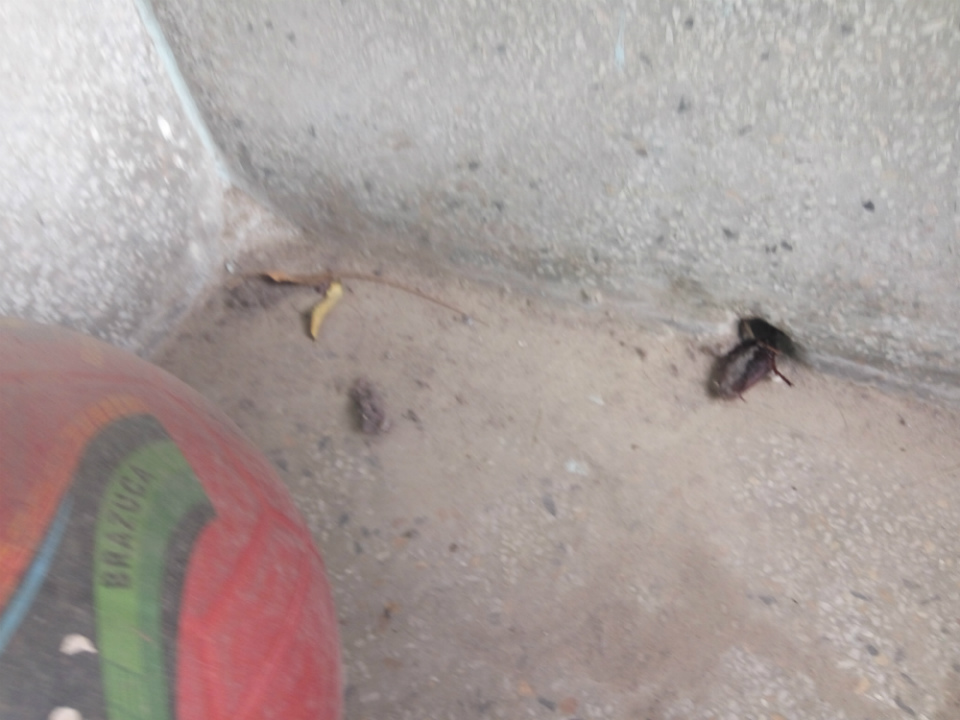cockroach: (666, 331, 812, 414)
